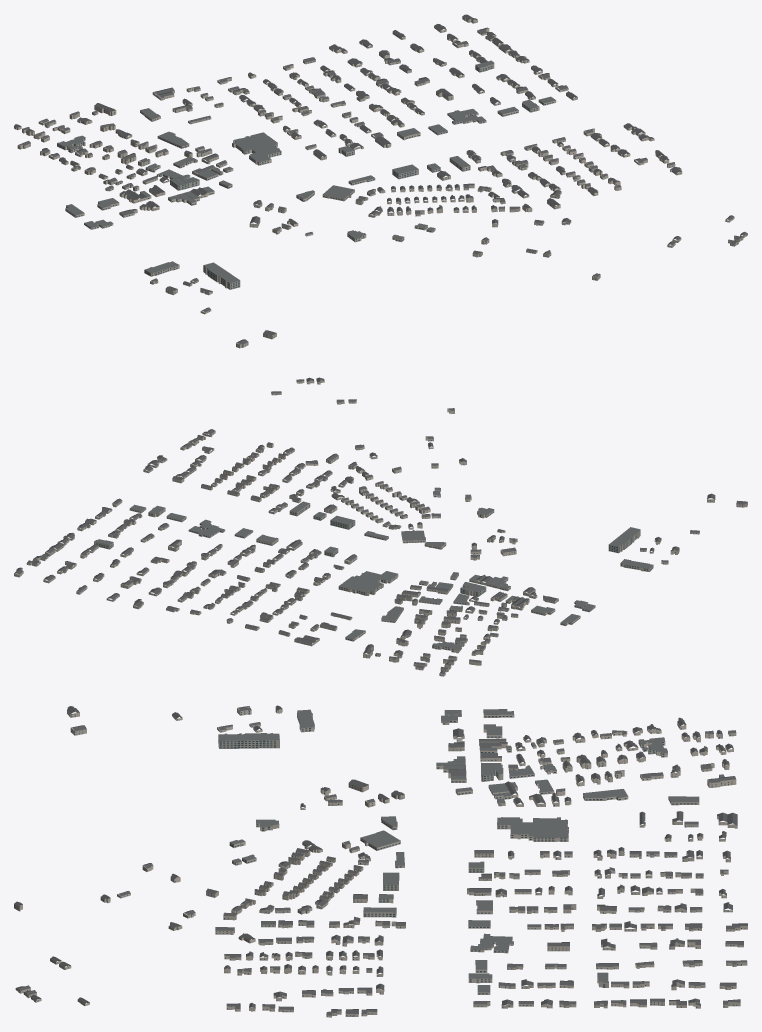
3 views of the same model, one above another, from view 1: azimuth 30°, elevation 25°; view 2: azimuth 150°, elevation 25°; view 3: azimuth 270°, elevation 25° (orthographic). The views are drawn at different scales.
Visible parts, largest first — view 1: Buildings (-1, -1) Roof shingles, Buildings (-1, -1) Masonry brick, Buildings (-1, -1) Roof membrane, Buildings (-1, -1) House siding, Buildings (-1, -1) Architectural tinted glass, Buildings (-1, -1) Architectural concrete; view 2: Buildings (-1, -1) Roof shingles, Buildings (-1, -1) Masonry brick, Buildings (-1, -1) Roof membrane, Buildings (-1, -1) House siding, Buildings (-1, -1) Architectural tinted glass, Buildings (-1, -1) Architectural concrete; view 3: Buildings (-1, -1) Roof shingles, Buildings (-1, -1) Masonry brick, Buildings (-1, -1) Roof membrane, Buildings (-1, -1) House siding, Buildings (-1, -1) Architectural tinted glass, Buildings (-1, -1) Architectural concrete, Buildings (-1, -1) Metal coping.
Boxes of the visible parts, x1=… form: Buildings (-1, -1) Roof shingles: x1=14, y1=14, x2=747, y2=344; Buildings (-1, -1) Masonry brick: x1=17, y1=26, x2=747, y2=348; Buildings (-1, -1) Roof membrane: x1=57, y1=60, x2=555, y2=282; Buildings (-1, -1) House siding: x1=14, y1=16, x2=675, y2=339; Buildings (-1, -1) Architectural tinted glass: x1=18, y1=18, x2=744, y2=347; Buildings (-1, -1) Architectural concrete: x1=170, y1=62, x2=494, y2=289; Buildings (-1, -1) Roof shingles: x1=14, y1=377, x2=747, y2=673; Buildings (-1, -1) Masonry brick: x1=26, y1=379, x2=747, y2=670; Buildings (-1, -1) Roof membrane: x1=94, y1=487, x2=652, y2=654; Buildings (-1, -1) House siding: x1=14, y1=400, x2=715, y2=676; Buildings (-1, -1) Architectural tinted glass: x1=14, y1=382, x2=742, y2=675; Buildings (-1, -1) Architectural concrete: x1=94, y1=520, x2=640, y2=596; Buildings (-1, -1) Roof shingles: x1=14, y1=705, x2=747, y2=1015; Buildings (-1, -1) Masonry brick: x1=15, y1=706, x2=747, y2=1017; Buildings (-1, -1) Roof membrane: x1=218, y1=709, x2=724, y2=992; Buildings (-1, -1) House siding: x1=14, y1=723, x2=747, y2=1011; Buildings (-1, -1) Architectural tinted glass: x1=14, y1=709, x2=745, y2=1016; Buildings (-1, -1) Architectural concrete: x1=218, y1=736, x2=608, y2=987; Buildings (-1, -1) Metal coping: x1=218, y1=709, x2=722, y2=982.
Bounding box in the file's own units: 1012 × 21.79 × 1013.
